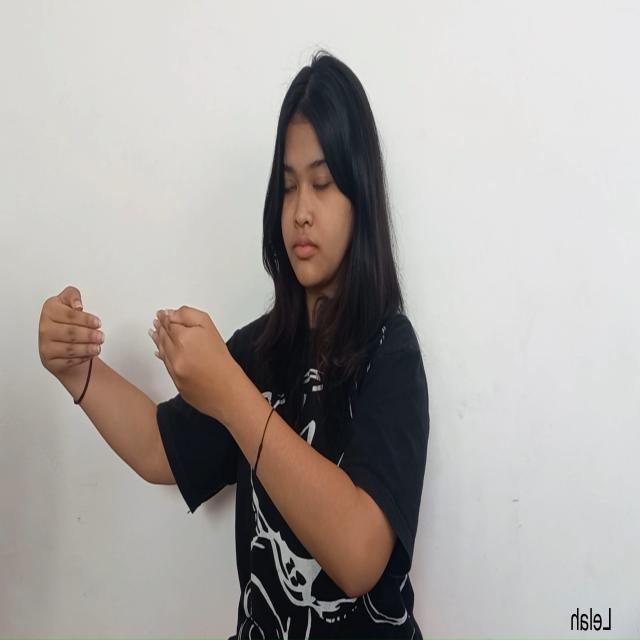Lelah -BISINDO-: (36, 281, 233, 421)
